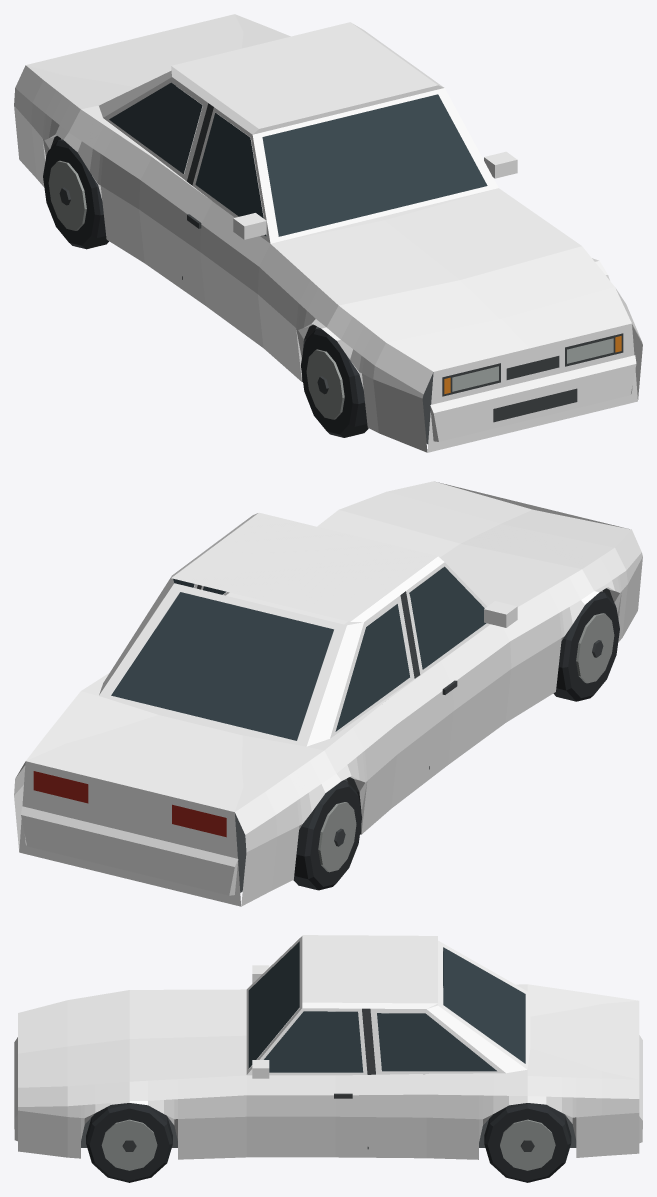
Rendered from hayase_enju_gts.glb.
3 renders of one model, top to bottom at view 1: azimuth 30°, elevation 25°; view 2: azimuth 150°, elevation 25°; view 3: azimuth 270°, elevation 25°, orthographic. The views are drawn at different scales.
Parts seen in each view (by area): view 1: hayase_enju_gts; view 2: hayase_enju_gts; view 3: hayase_enju_gts.
Boxes of the visible parts, x1,y1,x2,y2 form: hayase_enju_gts: (14,14,642,452); hayase_enju_gts: (14,481,642,906); hayase_enju_gts: (14,935,642,1182).
Size of the model in its own units: 1.73 by 1.27 by 4.39.
Materials: 8 (1 with a texture image).
